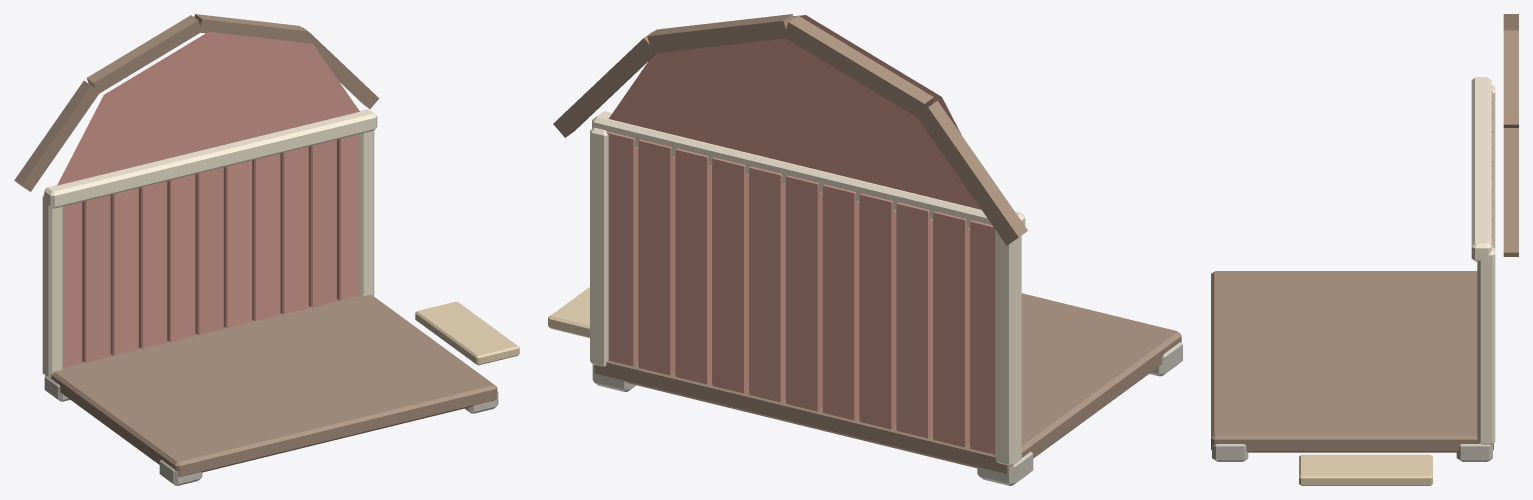
Rendered from crafted-barn-upgrading-back.glb.
The picture shows the model from 3 angles, left to right: view 1: azimuth 30°, elevation 25°; view 2: azimuth 150°, elevation 25°; view 3: azimuth 270°, elevation 25°; orthographic projection. The views are drawn at different scales.
Visible parts, largest first — view 1: floor, gable, header, siding-1, siding-3, siding-4, siding-6, siding-7, siding-8, siding-2, siding-5, siding-9 (+9 smaller); view 2: gable, floor, siding-5, siding-3, siding-9, siding-4, siding-6, siding-2, siding-7, siding-1, siding-8, siding-10 (+10 smaller); view 3: floor, extension-planks, header, corner-post-2, barge-board-6, barge-board-4, corner-post, stone-foot-3, stone-foot-2.
Part boxes in pixels (left/top/right/bottom): floor: left=45, top=294, right=497, bottom=476; gable: left=57, top=32, right=359, bottom=185; header: left=44, top=109, right=377, bottom=208; siding-1: left=82, top=195, right=110, bottom=362; siding-3: left=139, top=181, right=167, bottom=348; siding-4: left=167, top=174, right=195, bottom=341; siding-6: left=224, top=160, right=252, bottom=327; siding-7: left=252, top=153, right=280, bottom=321; siding-8: left=280, top=146, right=308, bottom=314; siding-2: left=110, top=188, right=138, bottom=355; siding-5: left=195, top=167, right=223, bottom=334; siding-9: left=309, top=139, right=336, bottom=307; gable: left=609, top=15, right=981, bottom=209; floor: left=594, top=293, right=1181, bottom=474; siding-5: left=785, top=175, right=822, bottom=411; siding-3: left=859, top=193, right=896, bottom=429; siding-9: left=638, top=139, right=675, bottom=375; siding-4: left=822, top=184, right=859, bottom=420; siding-6: left=749, top=166, right=785, bottom=402; siding-2: left=896, top=202, right=932, bottom=438; siding-7: left=712, top=157, right=748, bottom=393; siding-1: left=933, top=211, right=969, bottom=447; siding-8: left=675, top=148, right=711, bottom=384; siding-10: left=606, top=131, right=638, bottom=366; floor: left=1211, top=271, right=1493, bottom=452; extension-planks: left=1299, top=454, right=1432, bottom=485; header: left=1471, top=77, right=1491, bottom=261; corner-post-2: left=1477, top=246, right=1495, bottom=444; barge-board-6: left=1503, top=128, right=1518, bottom=256; barge-board-4: left=1503, top=30, right=1518, bottom=127; corner-post: left=1491, top=85, right=1495, bottom=248; stone-foot-3: left=1212, top=444, right=1248, bottom=461; stone-foot-2: left=1456, top=444, right=1492, bottom=461.
Bounding box in the file's own units: 2.59 × 2.02 × 1.61.
